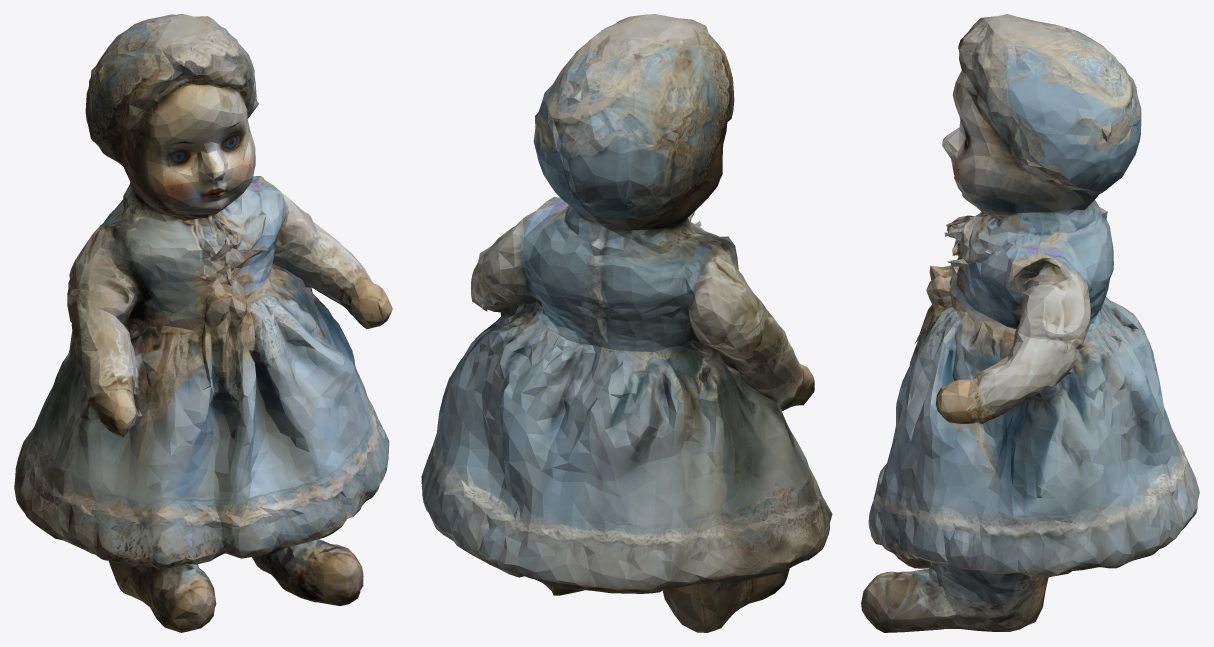
The model's file is Horror_Doll_0601111044_texture.fbx.
3 renders of one model, left to right at view 1: azimuth 30°, elevation 25°; view 2: azimuth 150°, elevation 25°; view 3: azimuth 270°, elevation 25°, orthographic. The views are drawn at different scales.
Visible parts, largest first — view 1: temp; view 2: temp; view 3: temp.
Part boxes in pixels (x1,y1,x2,y2): temp: (14,14,392,632); temp: (421,14,832,632); temp: (861,14,1199,632).
Bounding box in the file's own units: 131 × 200 × 110.
Materials: 1 (1 with a texture image).
